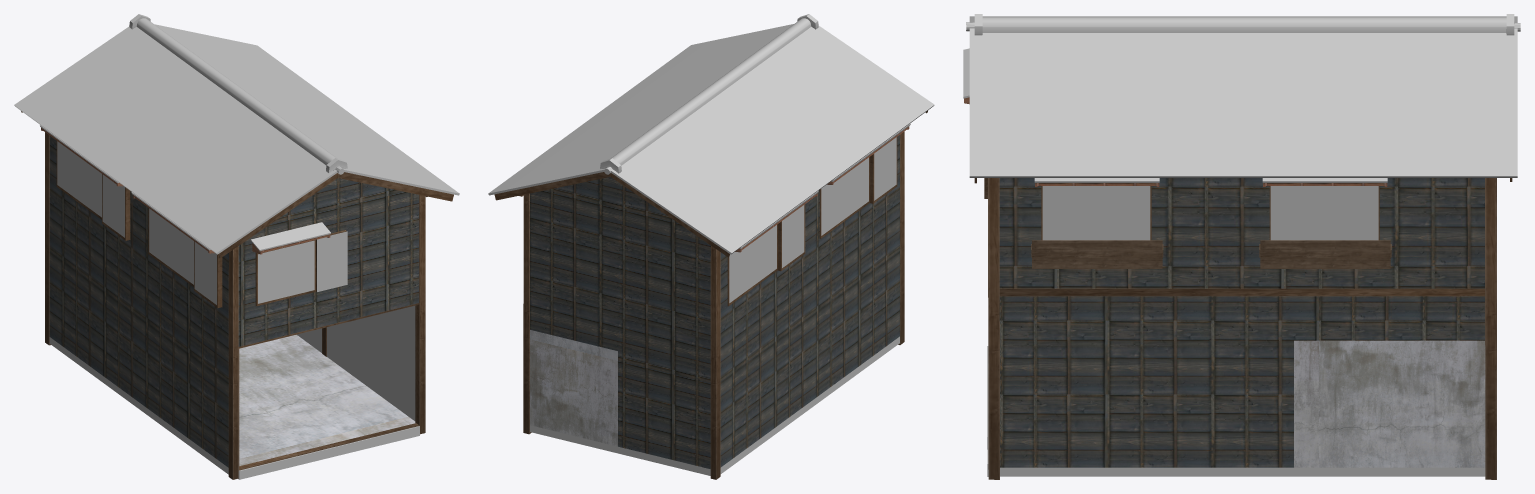
The picture shows the model from 3 angles, left to right: view 1: azimuth 30°, elevation 25°; view 2: azimuth 150°, elevation 25°; view 3: azimuth 270°, elevation 25°; orthographic projection. The views are drawn at different scales.
Parts seen in each view (by area): view 1: ms_h01k_1a; view 2: ms_h01k_1a; view 3: ms_h01k_1a.
Part boxes in pixels (box(x1,y1,x2,y2)): ms_h01k_1a: box(14, 14, 459, 479); ms_h01k_1a: box(488, 14, 934, 479); ms_h01k_1a: box(963, 14, 1520, 479).
Size of the model in its own units: 708 by 835 by 1039.
